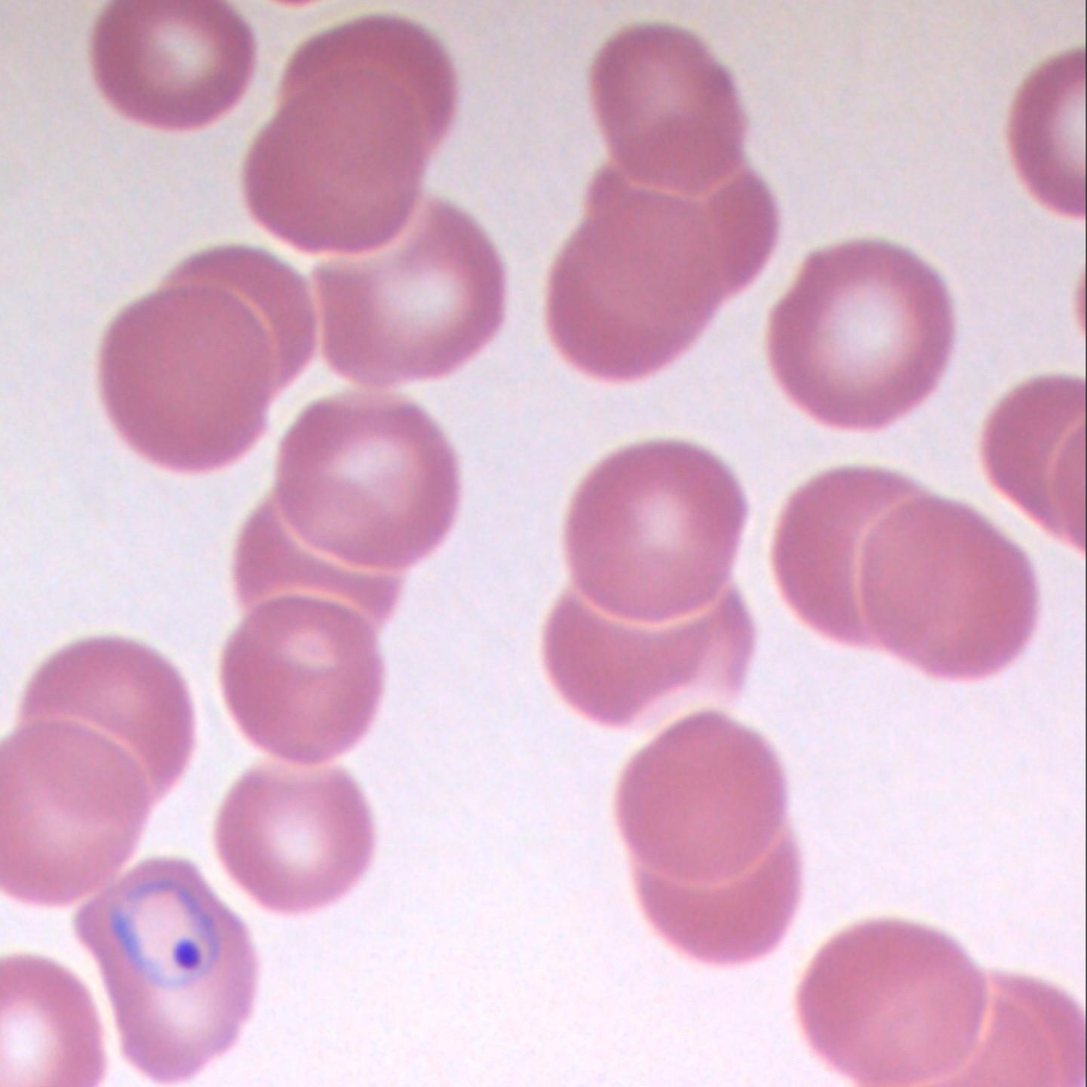Infected: (75, 860, 255, 1078)
Uninfected: (777, 468, 1030, 681), (550, 167, 772, 376), (312, 189, 505, 386), (269, 398, 459, 580), (770, 242, 954, 427), (563, 440, 745, 625), (244, 74, 422, 255), (101, 287, 271, 475), (618, 713, 793, 895), (801, 919, 993, 1082), (547, 577, 751, 727), (2, 716, 160, 904), (15, 636, 193, 794), (220, 595, 382, 763), (590, 22, 747, 193), (275, 12, 456, 160), (214, 765, 372, 914), (92, 0, 253, 127), (782, 470, 926, 582)
